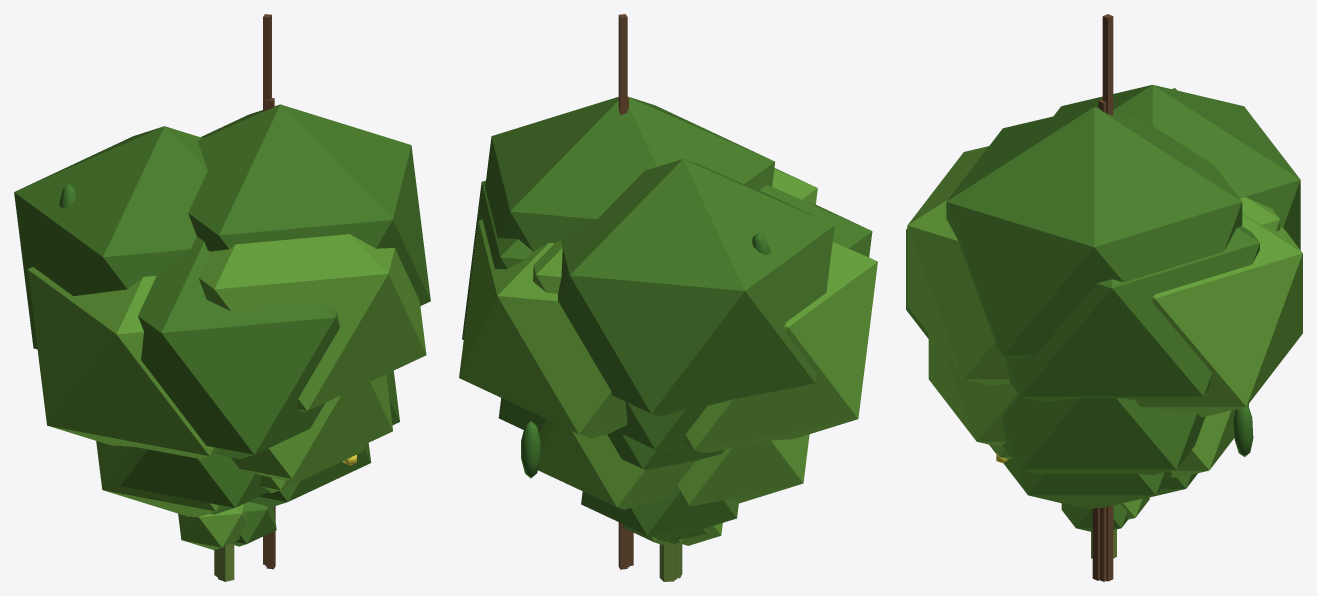
Rendered from Crop_Veg_Cucumber.fbx.
3 views of the same model, side by side, from view 1: azimuth 30°, elevation 25°; view 2: azimuth 150°, elevation 25°; view 3: azimuth 270°, elevation 25° (orthographic). The views are drawn at different scales.
Parts seen in each view (by area): view 1: Crop_Veg_Cucumber__S4, Crop_Veg_Cucumber__S5, Crop_Veg_Cucumber__S3, Crop_Veg_Cucumber__S1; view 2: Crop_Veg_Cucumber__S4, Crop_Veg_Cucumber__S5, Crop_Veg_Cucumber__S3, Crop_Veg_Cucumber__S2, Crop_Veg_Cucumber__S1; view 3: Crop_Veg_Cucumber__S4, Crop_Veg_Cucumber__S3, Crop_Veg_Cucumber__S5, Crop_Veg_Cucumber__S1, Crop_Veg_Cucumber__S2.
Part boxes in pixels (x1=…): Crop_Veg_Cucumber__S4: x1=14, y1=14, x2=430, y2=575; Crop_Veg_Cucumber__S5: x1=96, y1=441, x2=371, y2=577; Crop_Veg_Cucumber__S3: x1=231, y1=98, x2=399, y2=480; Crop_Veg_Cucumber__S1: x1=178, y1=501, x2=276, y2=581; Crop_Veg_Cucumber__S4: x1=459, y1=14, x2=877, y2=581; Crop_Veg_Cucumber__S5: x1=538, y1=419, x2=809, y2=579; Crop_Veg_Cucumber__S3: x1=498, y1=96, x2=706, y2=451; Crop_Veg_Cucumber__S2: x1=581, y1=486, x2=739, y2=540; Crop_Veg_Cucumber__S1: x1=623, y1=523, x2=722, y2=578; Crop_Veg_Cucumber__S4: x1=906, y1=14, x2=1302, y2=581; Crop_Veg_Cucumber__S3: x1=928, y1=99, x2=1280, y2=581; Crop_Veg_Cucumber__S5: x1=989, y1=404, x2=1248, y2=509; Crop_Veg_Cucumber__S1: x1=1061, y1=497, x2=1149, y2=580; Crop_Veg_Cucumber__S2: x1=1104, y1=473, x2=1197, y2=581.
Size of the model in its own units: 0.2444 by 0.35 by 0.2235.
